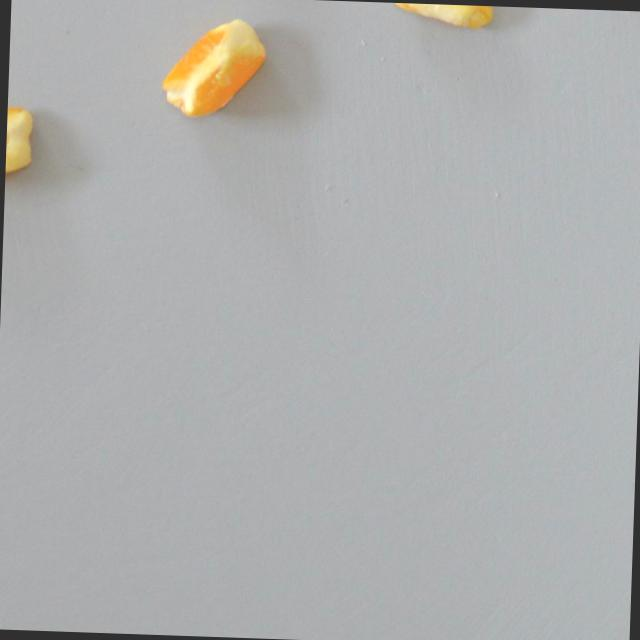dañado: (158, 7, 273, 124), (4, 95, 42, 192), (390, 2, 497, 32)
